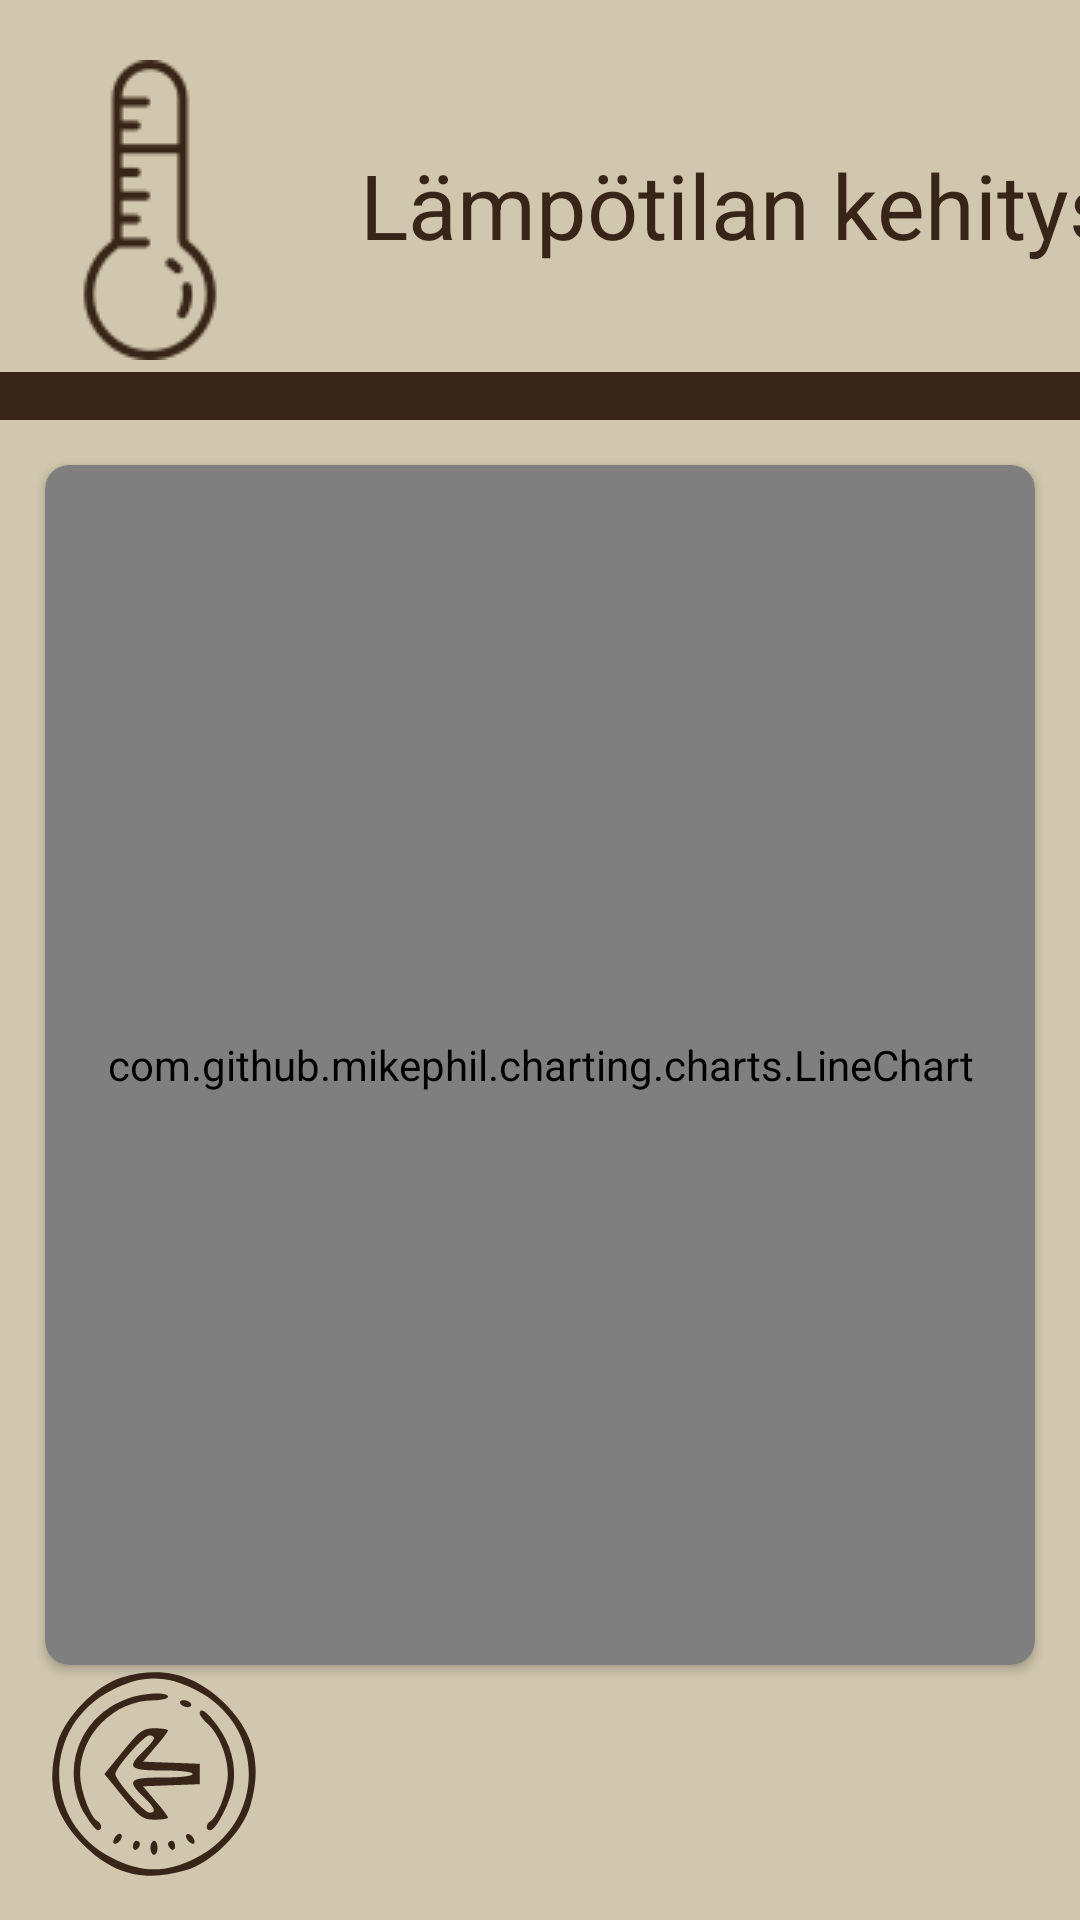

Screen size 1080*1920. Icon name, then its center in pixels as point (x, y):
arrow: point (154, 1774)
